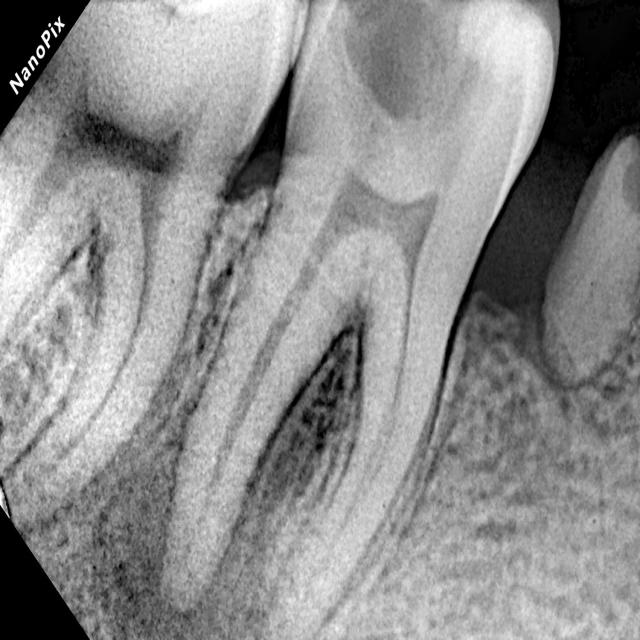karies: (342, 0, 484, 152)
